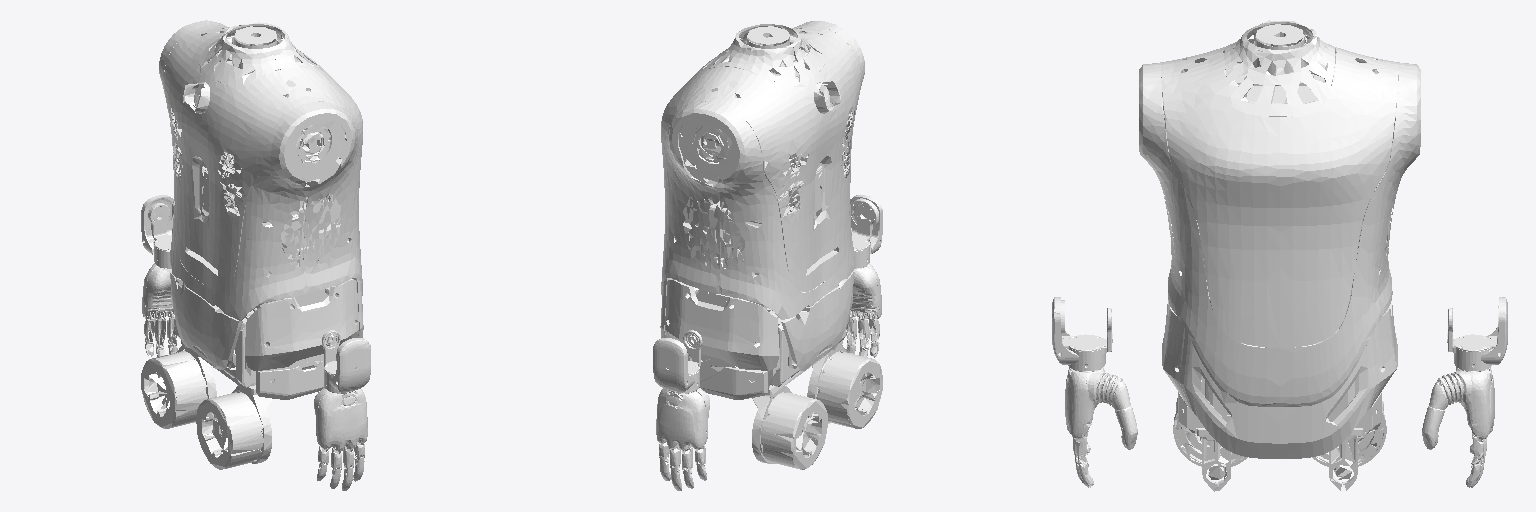
URDF robot description (biped_s42):
<?xml version='1.0' encoding='utf-8'?>
<robot name="biped_s42">
  <mujoco>
    <compiler meshdir="../meshes/" balanceinertia="true" discardvisual="false" />
  </mujoco>
  <link name="base_link">
    <inertial>
      <origin xyz="-0.0185005 0.00031952 0.1929569" rpy="0 0 0" />
      <mass value="26.30833803" />
      <inertia ixx="0.93103133" ixy="0.00011763" ixz="-0.07210993" iyy="0.82590532" iyz="6.88e-06" izz="0.27686612" />
    </inertial>
    <visual>
      <origin xyz="0 0 0" rpy="0 0 0" />
      <geometry>
        <mesh filename="../../meshes/torso.STL" />
      </geometry>
      <material name="">
        <color rgba="1 1 1 1" />
      </material>
    </visual>
  </link>
  <link name="zarm_l1_link">
    <inertial>
      <origin xyz="0.008 -0.00158 0.0036" rpy="0 0 0" />
      <mass value="1.15" />
      <inertia ixx="0.0006" ixy="5e-05" ixz="1e-05" iyy="0.00048" iyz="-6e-05" izz="0.0007" />
    </inertial>
    <visual>
      <origin xyz="0 0 0" rpy="0 0 0" />
      <geometry>
        <mesh filename="../../meshes/l_arm_pitch.STL" />
      </geometry>
      <material name="">
        <color rgba="1 1 1 1" />
      </material>
    </visual>
  </link>
  <joint name="zarm_l1_joint" type="revolute">
    <origin xyz="-0.017499853 0.26686 0.4245" rpy="0 0 0" />
    <parent link="base_link" />
    <child link="zarm_l1_link" />
    <axis xyz="0 1 0" />
    <limit lower="-2.61799387799149" upper="0.523598775598299" effort="100.0" velocity="41.3433333333333" />
  </joint>
  <link name="zarm_l2_link">
    <inertial>
      <origin xyz="0.00144 0.02159 -0.0202" rpy="0 0 0" />
      <mass value="0.226" />
      <inertia ixx="0.0003" ixy="3e-05" ixz="1e-05" iyy="0.00061" iyz="5e-05" izz="0.00057" />
    </inertial>
    <visual>
      <origin xyz="0 0 0" rpy="0 0 0" />
      <geometry>
        <mesh filename="../../meshes/l_arm_roll.STL" />
      </geometry>
      <material name="">
        <color rgba="1 1 1 1" />
      </material>
    </visual>
  </link>
  <joint name="zarm_l2_joint" type="revolute">
    <origin xyz="0 0 0" rpy="0 0 0" />
    <parent link="zarm_l1_link" />
    <child link="zarm_l2_link" />
    <axis xyz="1 0 0" />
    <limit lower="-0.349065850398866" upper="2.0943951023932" effort="50.0" velocity="19.154" />
  </joint>
  <link name="zarm_l3_link">
    <inertial>
      <origin xyz="-0.00157 -3e-05 -0.13318" rpy="0 0 0" />
      <mass value="1.166" />
      <inertia ixx="0.00245" ixy="-1e-05" ixz="-1e-05" iyy="0.0022" iyz="0.0" izz="0.00112" />
    </inertial>
    <visual>
      <origin xyz="0 0 0" rpy="0 0 0" />
      <geometry>
        <mesh filename="../../meshes/l_arm_yaw.STL" />
      </geometry>
      <material name="">
        <color rgba="1 1 1 1" />
      </material>
    </visual>
  </link>
  <joint name="zarm_l3_joint" type="revolute">
    <origin xyz="0 0 0" rpy="0 0 0" />
    <parent link="zarm_l2_link" />
    <child link="zarm_l3_link" />
    <axis xyz="0 0 1" />
    <limit lower="-1.5707963267949" upper="1.5707963267949" effort="20.0" velocity="18.84" />
  </joint>
  <link name="zarm_l4_link">
    <inertial>
      <origin xyz="-4e-05 0.0098 -0.05283" rpy="0 0 0" />
      <mass value="0.575" />
      <inertia ixx="0.00098" ixy="0.0" ixz="0.0" iyy="0.00062" iyz="-0.00016" izz="0.00088" />
    </inertial>
    <visual>
      <origin xyz="0 0 0" rpy="0 0 0" />
      <geometry>
        <mesh filename="../../meshes/l_forearm.STL" />
      </geometry>
      <material name="">
        <color rgba="1 1 1 1" />
      </material>
    </visual>
  </link>
  <joint name="zarm_l4_joint" type="revolute">
    <origin xyz="0 0 -0.1646" rpy="0 0 0" />
    <parent link="zarm_l3_link" />
    <child link="zarm_l4_link" />
    <axis xyz="0 1 0" />
    <limit lower="-1.5707963267949" upper="0.0" effort="20.0" velocity="18.84" />
  </joint>
  <link name="zarm_l5_link">
    <inertial>
      <origin xyz="-0.00011 0.00421 -0.11168" rpy="0 0 0" />
      <mass value="0.46" />
      <inertia ixx="0.00077" ixy="0.0" ixz="0.0" iyy="0.0005" iyz="-4e-05" izz="0.00063" />
    </inertial>
    <visual>
      <origin xyz="0 0 0" rpy="0 0 0" />
      <geometry>
        <mesh filename="../../meshes/l_hand_yaw.STL" />
      </geometry>
      <material name="">
        <color rgba="1 1 1 1" />
      </material>
    </visual>
  </link>
  <joint name="zarm_l5_joint" type="revolute">
    <origin xyz="0 0 0" rpy="0 0 0" />
    <parent link="zarm_l4_link" />
    <child link="zarm_l5_link" />
    <axis xyz="0 0 1" />
    <limit lower="-1.5707963267949" upper="1.5707963267949" effort="6.0" velocity="21.666" />
  </joint>
  <link name="zarm_l6_link">
    <inertial>
      <origin xyz="0.00253 0.00382 -0.05356" rpy="0 0 0" />
      <mass value="0.35" />
      <inertia ixx="0.00023" ixy="0.0" ixz="0.0" iyy="0.00024" iyz="-4e-05" izz="0.00019" />
    </inertial>
    <visual>
      <origin xyz="0 0 0" rpy="0 0 0" />
      <geometry>
        <mesh filename="../../meshes/l_hand_pitch.STL" />
      </geometry>
      <material name="">
        <color rgba="1 1 1 1" />
      </material>
    </visual>
  </link>
  <joint name="zarm_l6_joint" type="revolute">
    <origin xyz="0 0 -0.132050000125748" rpy="0 0 0" />
    <parent link="zarm_l5_link" />
    <child link="zarm_l6_link" />
    <axis xyz="0 1 0" />
    <limit lower="-1.5707963267949" upper="1.5707963267949" effort="6.0" velocity="21.666" />
  </joint>
  <link name="zarm_l7_link">
    <inertial>
      <origin xyz="0.00267 0.00748 -0.07162" rpy="0 0 0" />
      <mass value="0.81" />
      <inertia ixx="0.00117" ixy="2e-05" ixz="0.0" iyy="0.00128" iyz="-2e-05" izz="0.00036" />
    </inertial>
    <visual>
      <origin xyz="0 0 0" rpy="0 0 0" />
      <geometry>
        <mesh filename="../../meshes/l_hand_roll.STL" />
      </geometry>
      <material name="">
        <color rgba="1 1 1 1" />
      </material>
    </visual>
  </link>
  <joint name="zarm_l7_joint" type="revolute">
    <origin xyz="0 0 -0.0589999999999999" rpy="0 0 0" />
    <parent link="zarm_l6_link" />
    <child link="zarm_l7_link" />
    <axis xyz="1 0 0" />
    <limit lower="-1.5707963267949" upper="1.5707963267949" effort="6.0" velocity="21.666" />
  </joint>
  <link name="zarm_l7_end_effector">
    <collision>
      <origin rpy="0 0 0" xyz="0 0 0" />
      <geometry>
        <sphere radius="0.005" />
      </geometry>
    </collision>
  </link>
  <joint name="zarm_l7_end_effector_joint" type="fixed">
    <origin xyz="0 -0.03 -0.17" rpy="0 0 0" />
    <parent link="zarm_l7_link" />
    <child link="zarm_l7_end_effector" />
  </joint>
  <link name="zarm_r1_link">
    <inertial>
      <origin xyz="0.008 0.00158 -0.0036" rpy="0 0 0" />
      <mass value="1.15" />
      <inertia ixx="0.0006" ixy="-5e-05" ixz="-1e-05" iyy="0.00048" iyz="-6e-05" izz="0.0007" />
    </inertial>
    <visual>
      <origin xyz="0 0 0" rpy="0 0 0" />
      <geometry>
        <mesh filename="../../meshes/r_arm_pitch.STL" />
      </geometry>
      <material name="">
        <color rgba="1 1 1 1" />
      </material>
    </visual>
  </link>
  <joint name="zarm_r1_joint" type="revolute">
    <origin xyz="-0.017499853 -0.26686 0.4245" rpy="0 0 0" />
    <parent link="base_link" />
    <child link="zarm_r1_link" />
    <axis xyz="0 1 0" />
    <limit lower="-2.61799387799149" upper="0.523598775598299" effort="100.0" velocity="41.3433333333333" />
  </joint>
  <link name="zarm_r2_link">
    <inertial>
      <origin xyz="0.00144 -0.02159 -0.02021" rpy="0 0 0" />
      <mass value="0.226" />
      <inertia ixx="0.0003" ixy="-3e-05" ixz="1e-05" iyy="0.00061" iyz="-5e-05" izz="0.00057" />
    </inertial>
    <visual>
      <origin xyz="0 0 0" rpy="0 0 0" />
      <geometry>
        <mesh filename="../../meshes/r_arm_roll.STL" />
      </geometry>
      <material name="">
        <color rgba="1 1 1 1" />
      </material>
    </visual>
  </link>
  <joint name="zarm_r2_joint" type="revolute">
    <origin xyz="0 0 0" rpy="0 0 0" />
    <parent link="zarm_r1_link" />
    <child link="zarm_r2_link" />
    <axis xyz="1 0 0" />
    <limit lower="-2.0943951023932" upper="0.349065850398866" effort="50.0" velocity="19.154" />
  </joint>
  <link name="zarm_r3_link">
    <inertial>
      <origin xyz="-0.00157 3e-05 -0.13318" rpy="0 0 0" />
      <mass value="1.166" />
      <inertia ixx="0.00245" ixy="1e-05" ixz="-1e-05" iyy="0.0022" iyz="0.0" izz="0.00112" />
    </inertial>
    <visual>
      <origin xyz="0 0 0" rpy="0 0 0" />
      <geometry>
        <mesh filename="../../meshes/r_arm_yaw.STL" />
      </geometry>
      <material name="">
        <color rgba="1 1 1 1" />
      </material>
    </visual>
  </link>
  <joint name="zarm_r3_joint" type="revolute">
    <origin xyz="0 0 0" rpy="0 0 0" />
    <parent link="zarm_r2_link" />
    <child link="zarm_r3_link" />
    <axis xyz="0 0 1" />
    <limit lower="-1.5707963267949" upper="1.5707963267949" effort="20.0" velocity="18.84" />
  </joint>
  <link name="zarm_r4_link">
    <inertial>
      <origin xyz="-4e-05 -0.0098 -0.05283" rpy="0 0 0" />
      <mass value="0.575" />
      <inertia ixx="0.00098" ixy="0.0" ixz="0.0" iyy="0.00062" iyz="0.00016" izz="0.00088" />
    </inertial>
    <visual>
      <origin xyz="0 0 0" rpy="0 0 0" />
      <geometry>
        <mesh filename="../../meshes/r_forearm.STL" />
      </geometry>
      <material name="">
        <color rgba="1 1 1 1" />
      </material>
    </visual>
  </link>
  <joint name="zarm_r4_joint" type="revolute">
    <origin xyz="0 0 -0.1646" rpy="0 0 0" />
    <parent link="zarm_r3_link" />
    <child link="zarm_r4_link" />
    <axis xyz="0 1 0" />
    <limit lower="-1.5707963267949" upper="0.0" effort="20.0" velocity="18.84" />
  </joint>
  <link name="zarm_r5_link">
    <inertial>
      <origin xyz="-0.00011 -0.00421 -0.11168" rpy="0 0 0" />
      <mass value="0.46" />
      <inertia ixx="0.00077" ixy="0.0" ixz="0.0" iyy="0.0005" iyz="4e-05" izz="0.00063" />
    </inertial>
    <visual>
      <origin xyz="0 0 0" rpy="0 0 0" />
      <geometry>
        <mesh filename="../../meshes/r_hand_yaw.STL" />
      </geometry>
      <material name="">
        <color rgba="1 1 1 1" />
      </material>
    </visual>
  </link>
  <joint name="zarm_r5_joint" type="revolute">
    <origin xyz="0 0 0" rpy="0 0 0" />
    <parent link="zarm_r4_link" />
    <child link="zarm_r5_link" />
    <axis xyz="0 0 1" />
    <limit lower="-1.5707963267949" upper="1.5707963267949" effort="6.0" velocity="21.666" />
  </joint>
  <link name="zarm_r6_link">
    <inertial>
      <origin xyz="0.00253 -0.00382 -0.05356" rpy="0 0 0" />
      <mass value="0.35" />
      <inertia ixx="0.00023" ixy="0.0" ixz="0.0" iyy="0.00024" iyz="4e-05" izz="0.00019" />
    </inertial>
    <visual>
      <origin xyz="0 0 0" rpy="0 0 0" />
      <geometry>
        <mesh filename="../../meshes/r_hand_pitch.STL" />
      </geometry>
      <material name="">
        <color rgba="1 1 1 1" />
      </material>
    </visual>
  </link>
  <joint name="zarm_r6_joint" type="revolute">
    <origin xyz="0 0 -0.132050000240097" rpy="0 0 0" />
    <parent link="zarm_r5_link" />
    <child link="zarm_r6_link" />
    <axis xyz="0 1 0" />
    <limit lower="-1.5707963267949" upper="1.5707963267949" effort="6.0" velocity="21.666" />
  </joint>
  <link name="zarm_r7_link">
    <inertial>
      <origin xyz="0.00267 -0.00748 -0.07162" rpy="0 0 0" />
      <mass value="0.81" />
      <inertia ixx="0.00098" ixy="-1e-05" ixz="1e-05" iyy="0.00104" iyz="1e-05" izz="0.00027" />
    </inertial>
    <visual>
      <origin xyz="0 0 0" rpy="0 0 0" />
      <geometry>
        <mesh filename="../../meshes/r_hand_roll.STL" />
      </geometry>
      <material name="">
        <color rgba="1 1 1 1" />
      </material>
    </visual>
  </link>
  <joint name="zarm_r7_joint" type="revolute">
    <origin xyz="0 0 -0.0589999999999999" rpy="0 0 0" />
    <parent link="zarm_r6_link" />
    <child link="zarm_r7_link" />
    <axis xyz="1 0 0" />
    <limit lower="-1.5707963267949" upper="1.5707963267949" effort="6.0" velocity="21.666" />
  </joint>
  <link name="zarm_r7_end_effector">
    <collision>
      <origin rpy="0 0 0" xyz="0 0 0" />
      <geometry>
        <sphere radius="0.005" />
      </geometry>
    </collision>
  </link>
  <joint name="zarm_r7_end_effector_joint" type="fixed">
    <origin xyz="0 0.03 -0.17" rpy="0 0 0" />
    <parent link="zarm_r7_link" />
    <child link="zarm_r7_end_effector" />
  </joint>
  </robot>

--- What the picture shows (computed from the rendered views, not written in the file) ---
The picture shows the robot from 3 angles, left to right: view 1: azimuth 30°, elevation 25°; view 2: azimuth 150°, elevation 25°; view 3: azimuth 270°, elevation 25°; orthographic projection.
Robot: biped_s42 — 17 links, 16 joints (14 revolute, 2 fixed); root link base_link; default pose: all joints at 0.
Links seen in each view (by area): view 1: base_link, zarm_r6_link, zarm_l6_link; view 2: base_link, zarm_l6_link, zarm_r6_link; view 3: base_link, zarm_r6_link, zarm_l6_link.
Link boxes in pixels (x1=…): base_link: x1=141, y1=20, x2=363, y2=469; zarm_r6_link: x1=314, y1=330, x2=370, y2=490; zarm_l6_link: x1=141, y1=195, x2=184, y2=356; base_link: x1=660, y1=21, x2=882, y2=469; zarm_l6_link: x1=653, y1=330, x2=709, y2=490; zarm_r6_link: x1=841, y1=195, x2=882, y2=357; base_link: x1=1139, y1=20, x2=1420, y2=491; zarm_r6_link: x1=1052, y1=297, x2=1137, y2=487; zarm_l6_link: x1=1422, y1=297, x2=1507, y2=487.
Bounding box of the posed robot: 0.2827 × 0.6281 × 0.6861 m (x, y, z).
Meshes: 15 distinct files referenced, 3 mesh visuals loaded (3 binary STL); not drawn: 12 (reference not matched to a file when rendering).